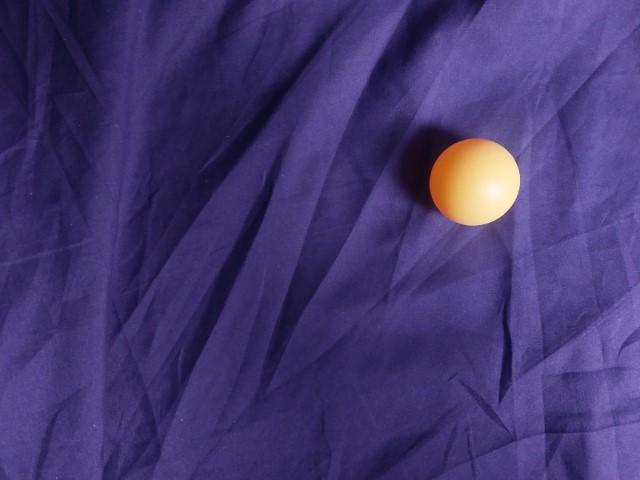oball: (116, 250, 219, 350)
